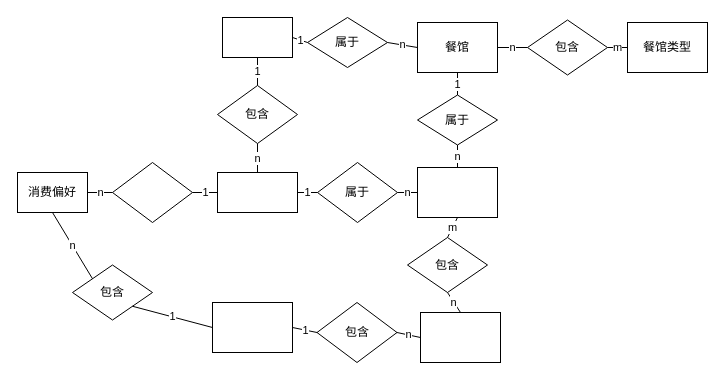
The diagram is 725 pixels wide and 380 high, and some of its shapes have lost their labels. Here are the shapes that lost their labels. From the top down, the box of each, then its label:
(222, 16, 292, 58): 城市
(112, 162, 192, 222): 拥有
(216, 172, 298, 212): 用户
(416, 166, 498, 218): 订单
(212, 302, 292, 352): 餐品类型
(420, 312, 500, 362): 餐品
